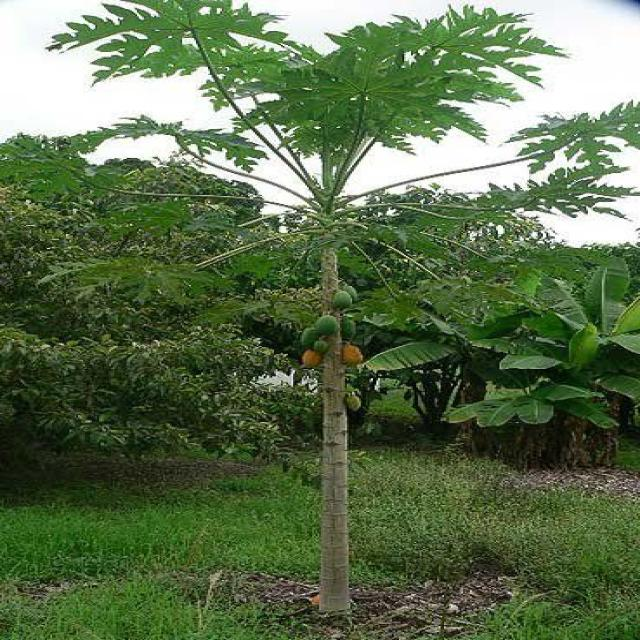Papaya-Tree: (33, 6, 635, 458)
